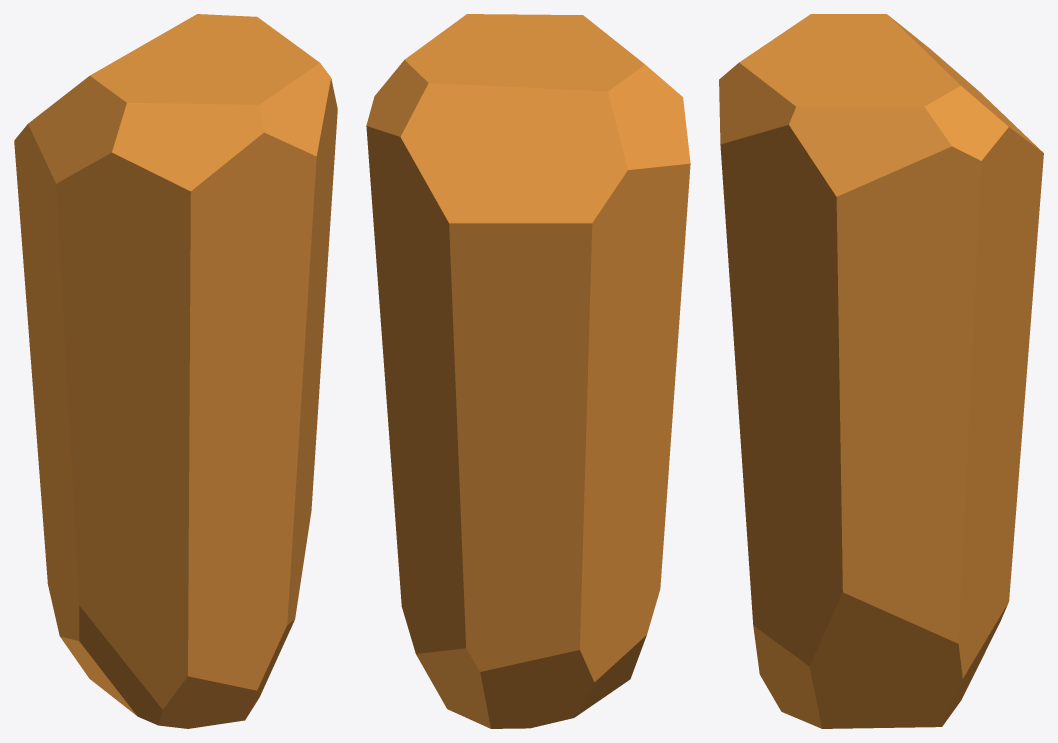
The model's file is rocatopacio_06.fbx.
3 views of the same model, side by side, from view 1: azimuth 30°, elevation 25°; view 2: azimuth 150°, elevation 25°; view 3: azimuth 270°, elevation 25° (orthographic). The views are drawn at different scales.
Visible parts, largest first — view 1: cueva07.001; view 2: cueva07.001; view 3: cueva07.001.
Boxes of the visible parts, box(x1,y1,x2,y2) form: cueva07.001: box(14, 14, 337, 728); cueva07.001: box(366, 14, 690, 728); cueva07.001: box(719, 14, 1043, 728).
Size of the model in its own units: 402 by 862 by 393.
